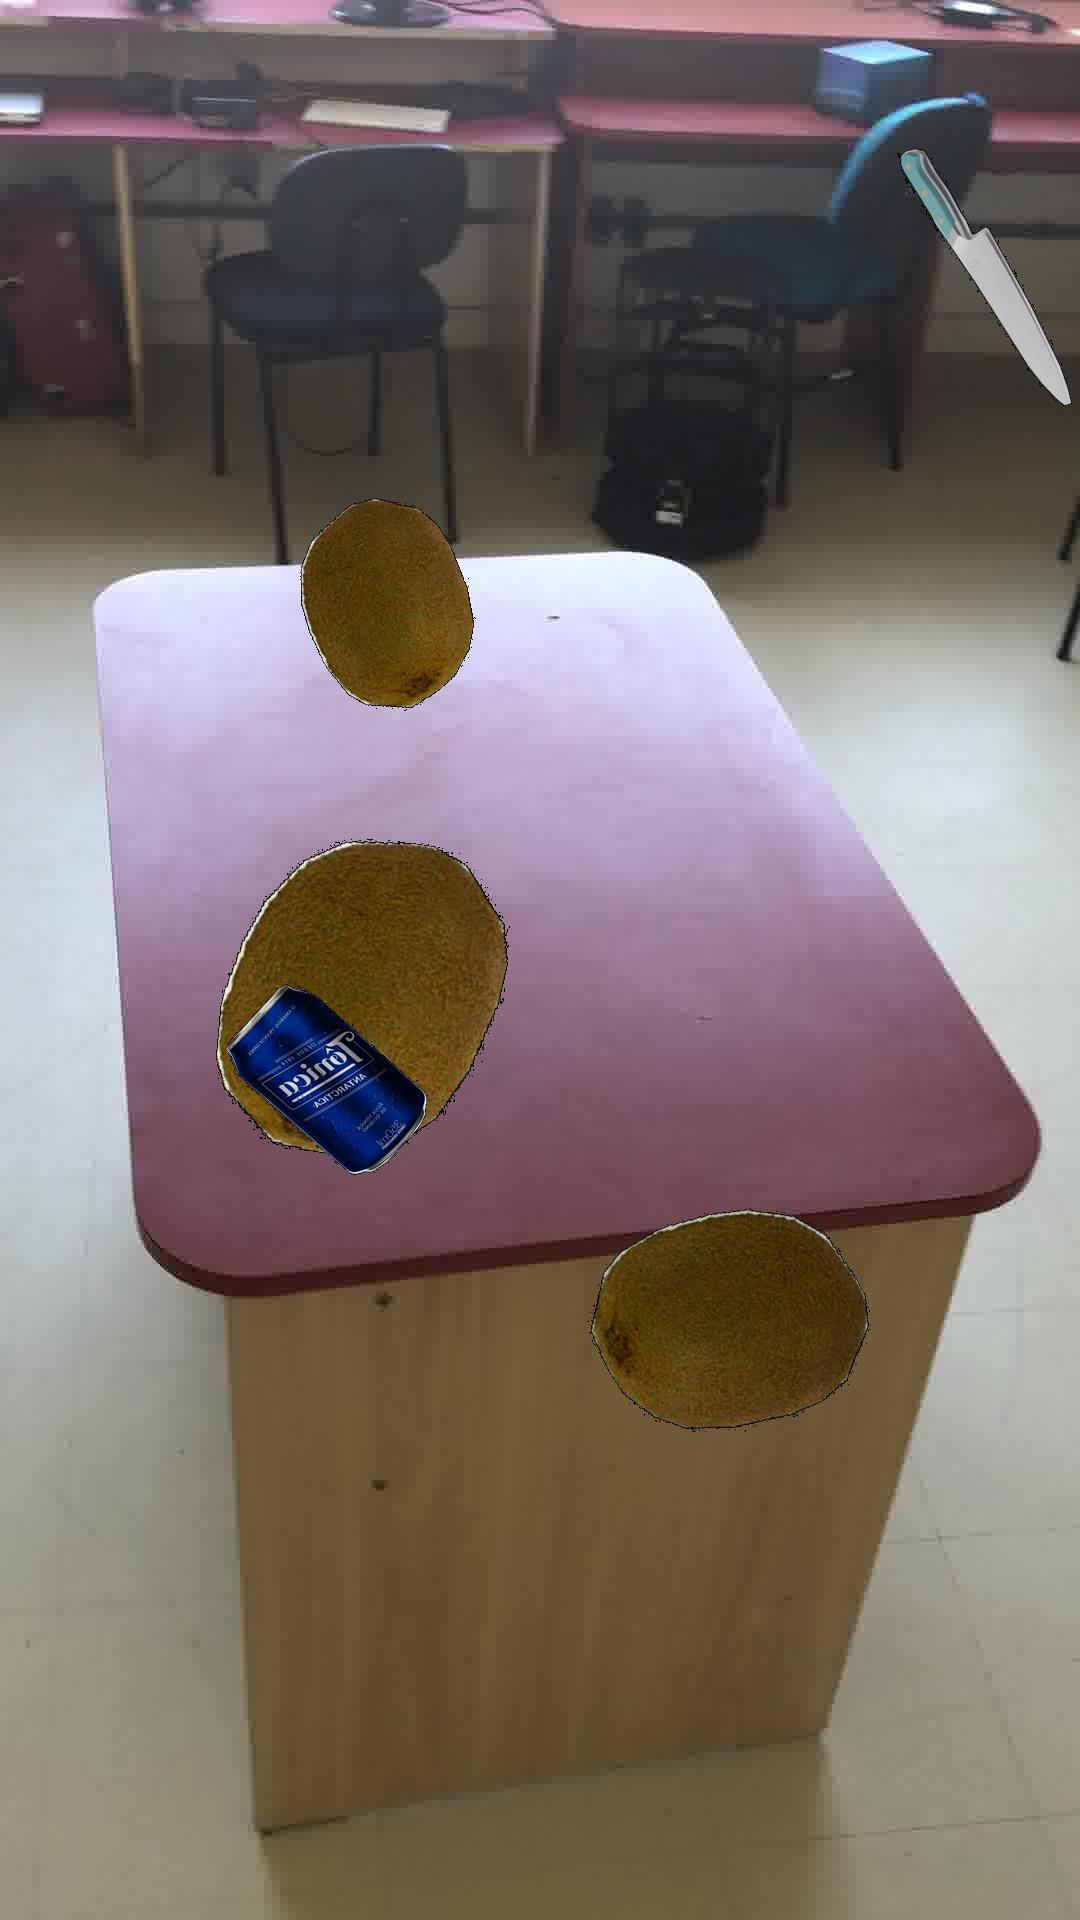kiwi: (215, 840, 506, 1151), (588, 1208, 868, 1428), (299, 497, 472, 707)
knife: (895, 146, 1071, 405)
tonic: (223, 982, 426, 1174)
